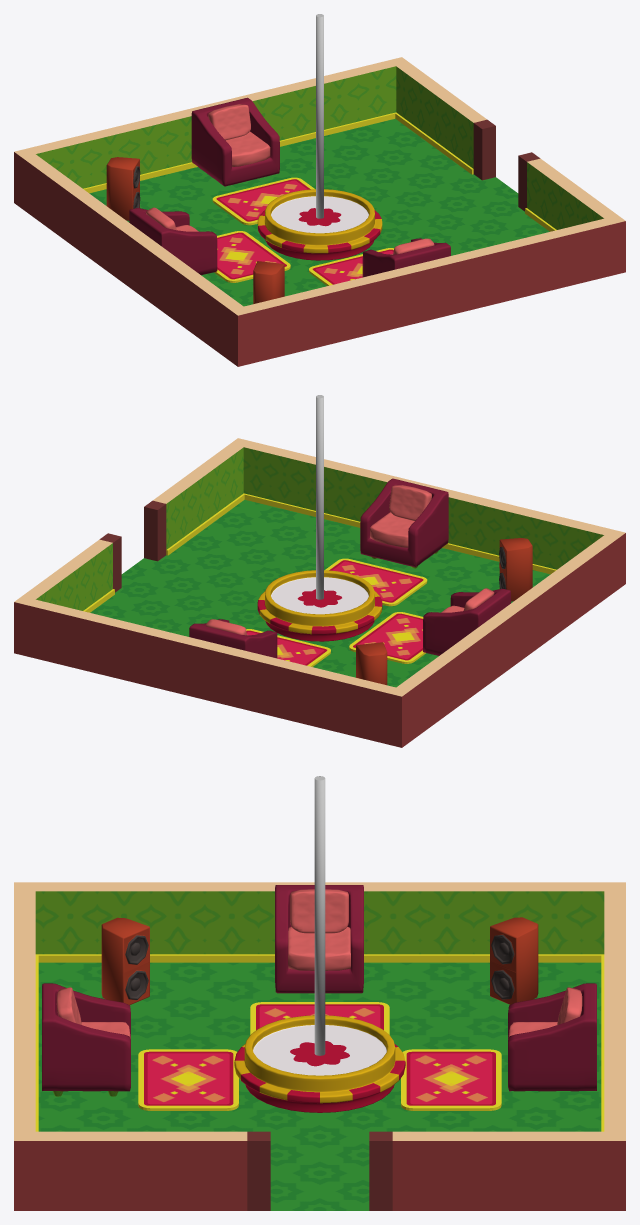
File: VIP_Room_Lvl2_03a 1.fbx
3 views of the same model, one above another, from view 1: azimuth 30°, elevation 25°; view 2: azimuth 150°, elevation 25°; view 3: azimuth 270°, elevation 25° (orthographic). The views are drawn at different scales.
Visible parts, largest first — view 1: Plane.010, Plane.014; view 2: Plane.010, Plane.014; view 3: Plane.010, Plane.014.
Boxes of the visible parts, <box> form: Plane.010: <box>14,57,625,366</box>; Plane.014: <box>106,14,450,303</box>; Plane.010: <box>14,438,625,747</box>; Plane.014: <box>189,395,532,685</box>; Plane.010: <box>14,882,625,1210</box>; Plane.014: <box>42,776,596,1112</box>.
Size of the model in its own units: 7.92 by 4.33 by 7.92.
Materials: 5 (4 with a texture image).
